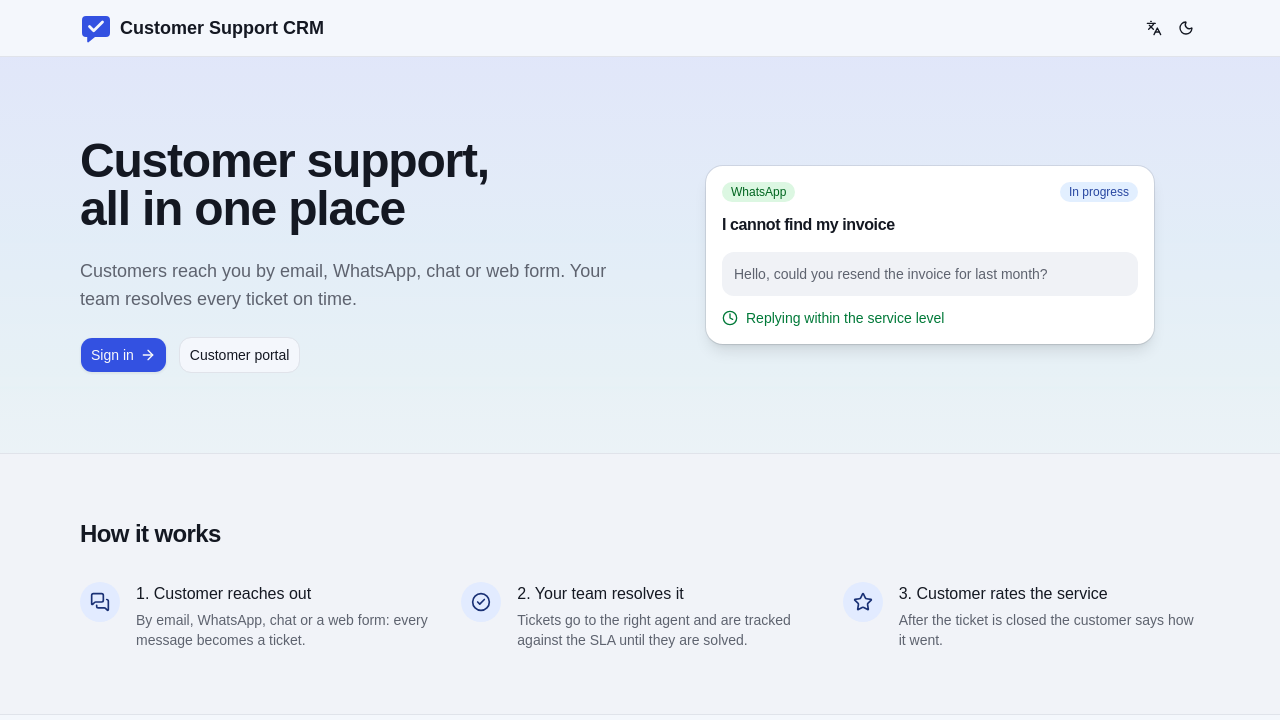
it: App layout and routing › the old /welcome address goes to / and its Sign in link opens the login page
Click the link "Sign in" at (123, 355), box left=80, top=337, right=167, bottom=373
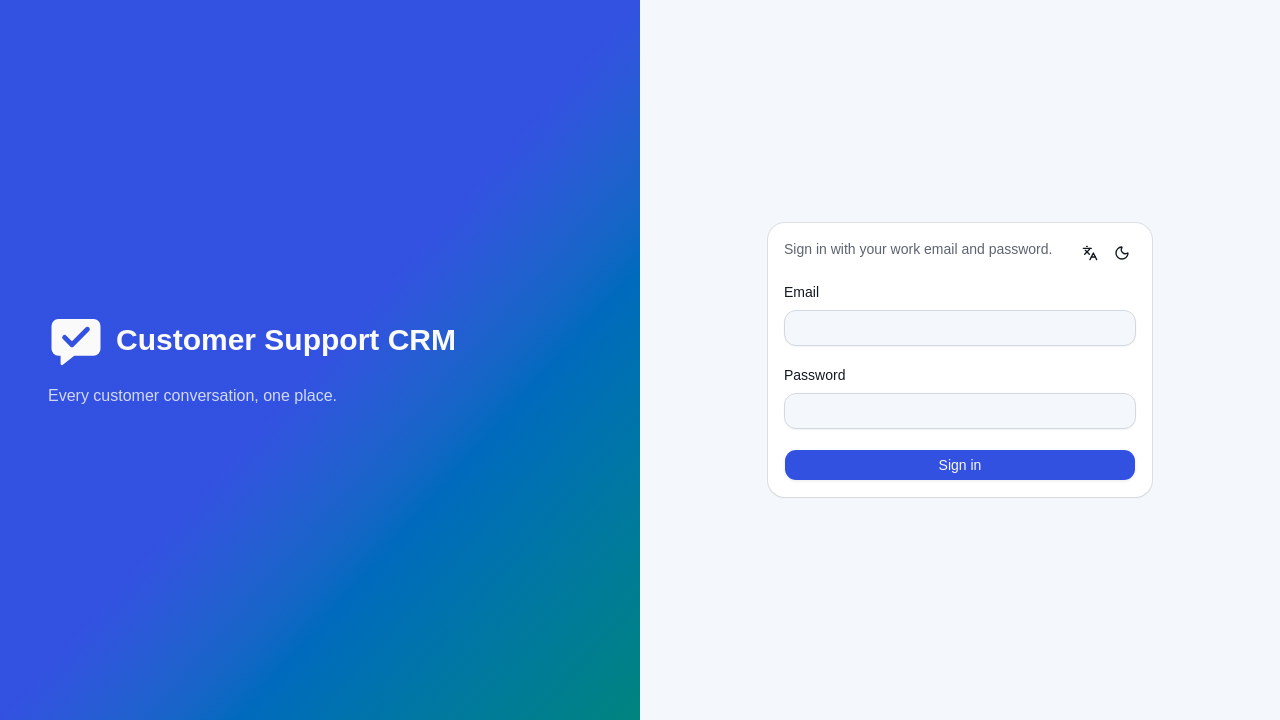
Now the form "Sign in" is shown, box left=784, top=283, right=1136, bottom=481
